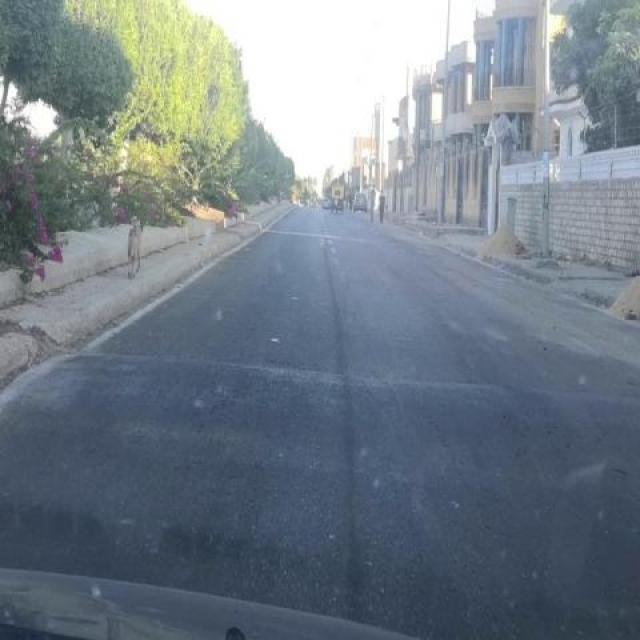Unmarked Bump: (20, 357, 640, 482)
